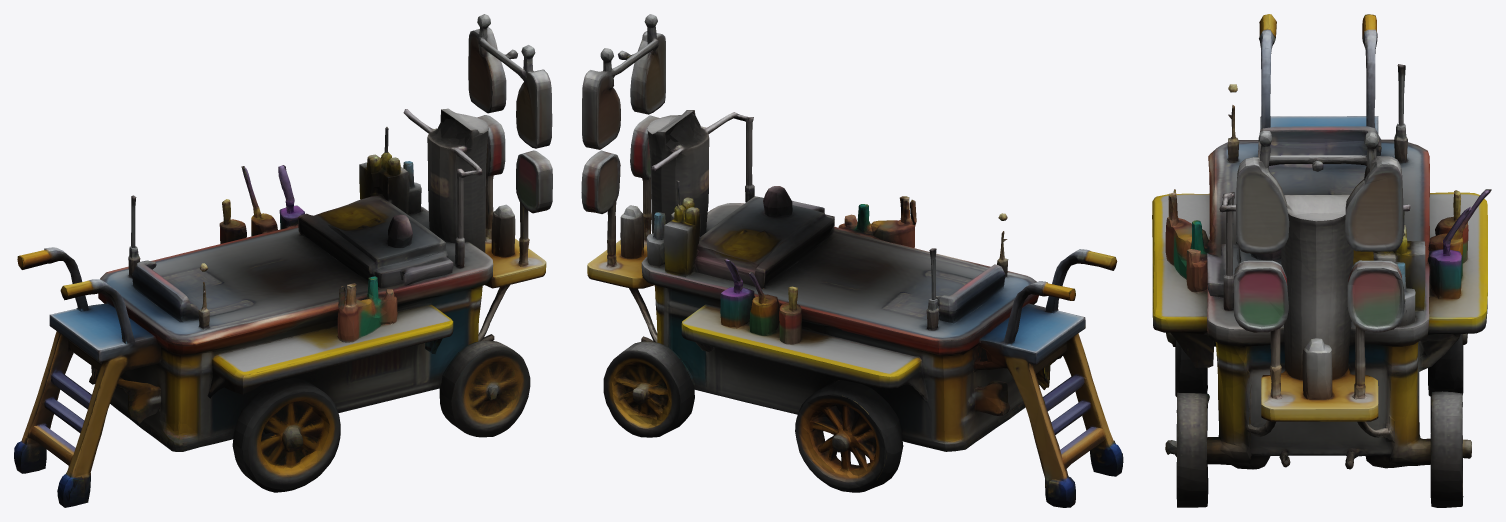
File: foodCartTwo_ori.glb
3 renders of one model, left to right at view 1: azimuth 30°, elevation 25°; view 2: azimuth 150°, elevation 25°; view 3: azimuth 270°, elevation 25°, orthographic. The views are drawn at different scales.
Visible parts, largest first — view 1: world; view 2: world; view 3: world.
Part boxes in pixels (left/top/right/bottom): world: left=14, top=14, right=552, bottom=507; world: left=581, top=14, right=1123, bottom=507; world: left=1152, top=14, right=1491, bottom=507.
Size of the model in its own units: 0.9978 by 0.6877 by 0.5014.
1 material, 1 textured.
